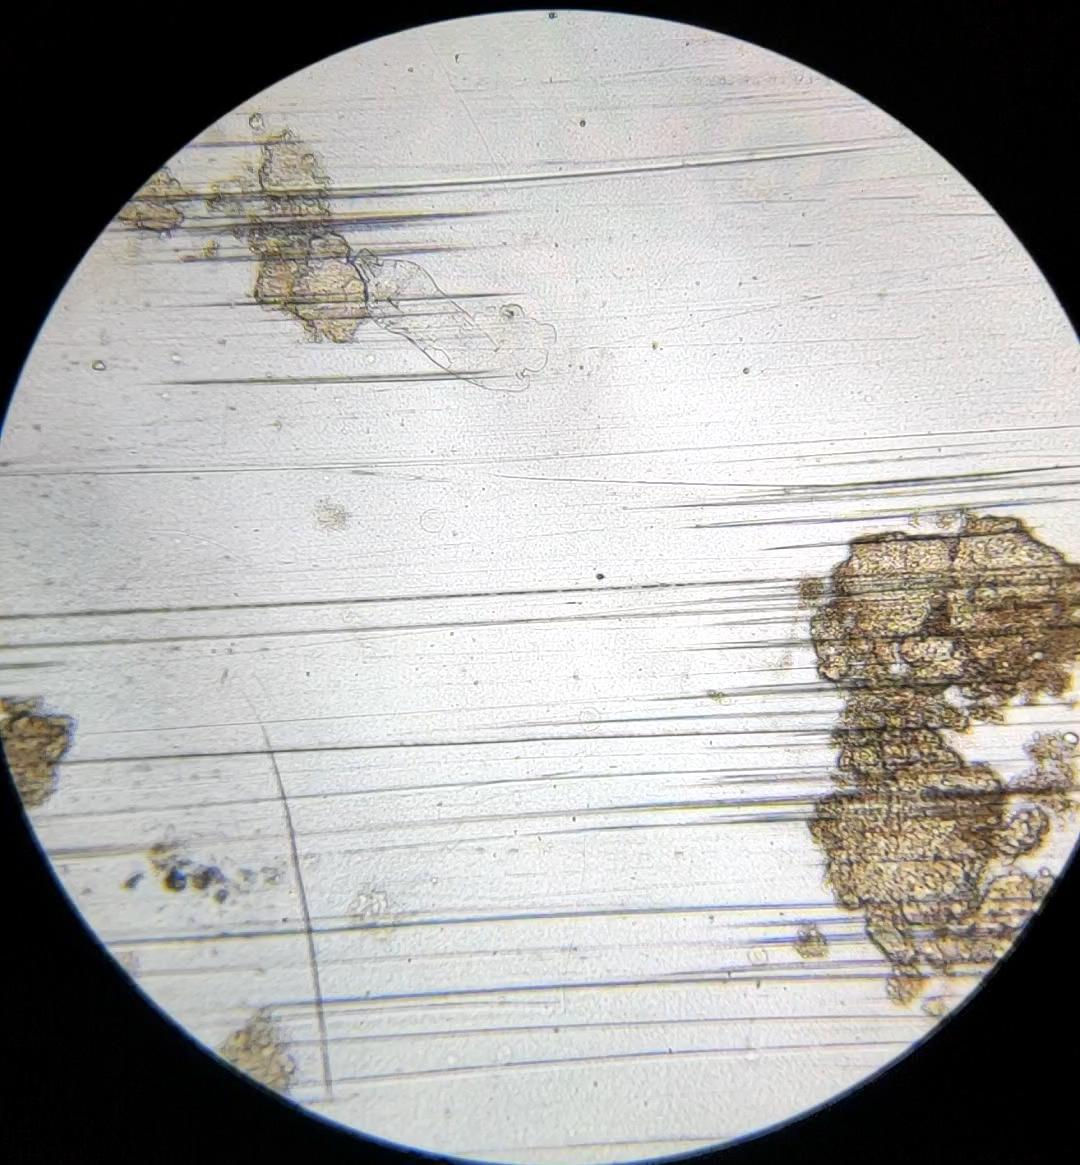Do: (350, 247, 556, 392)
